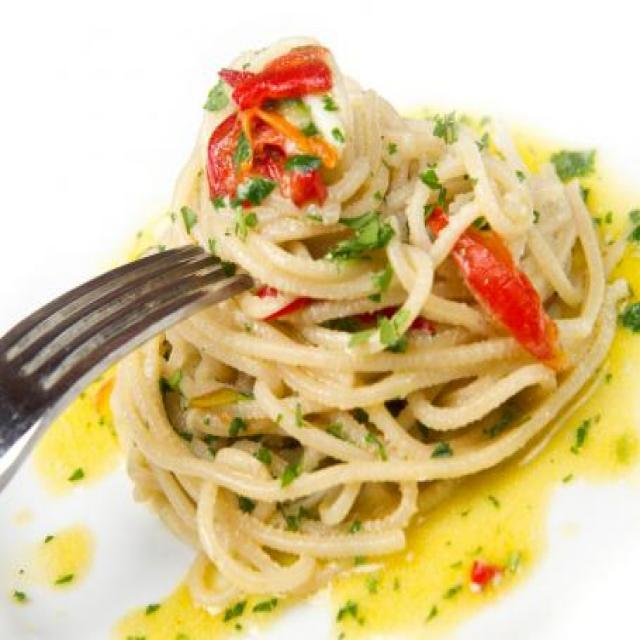Oil pasta: (146, 36, 616, 570)
